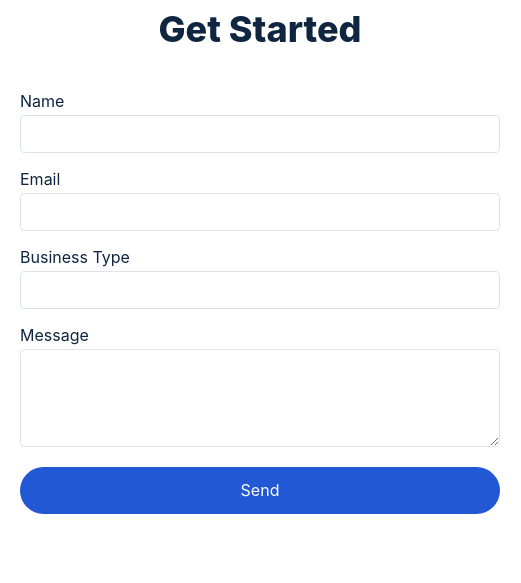
it: ContactForm › submits valid data to the form endpoint
In the field labelled "Name": (260, 134) [20,115,500,153], type "Jamie Rivera"
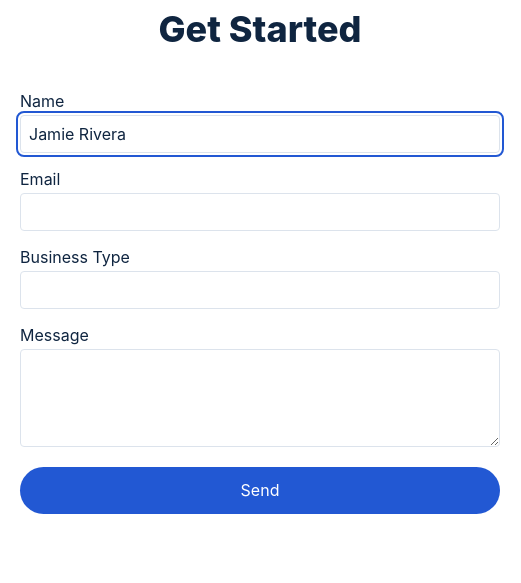
In the field labelled "Email": (260, 212) [20,193,500,231], type "jamie@example.com"
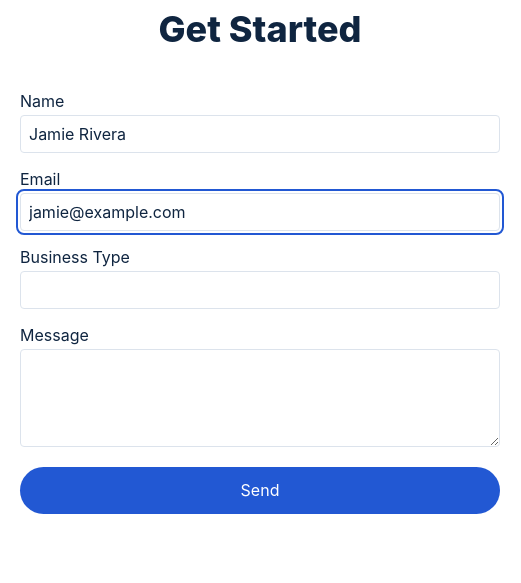
In the field labelled "Business Type": (260, 290) [20,271,500,309], type "Salon"
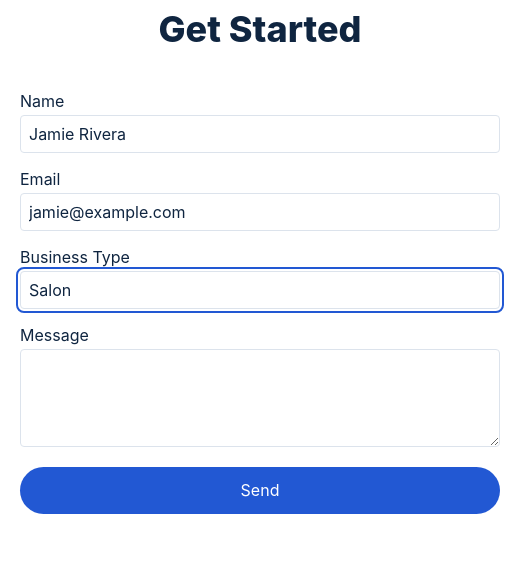
In the text box labelled "Message": (260, 398) [20,349,500,447], type "I want to automate bookings."
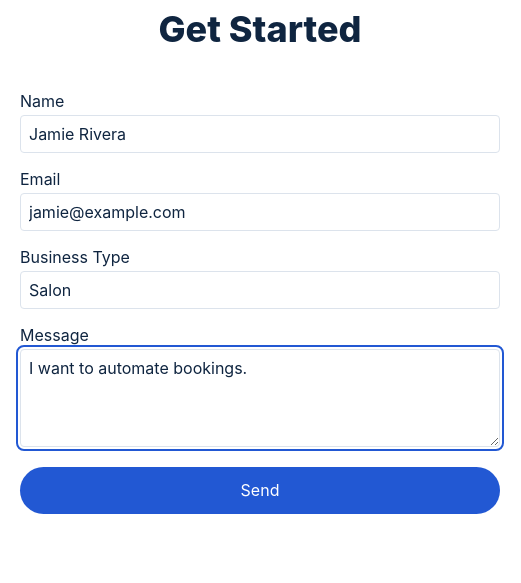
Click the button "Send": (260, 490) [20,467,500,514]
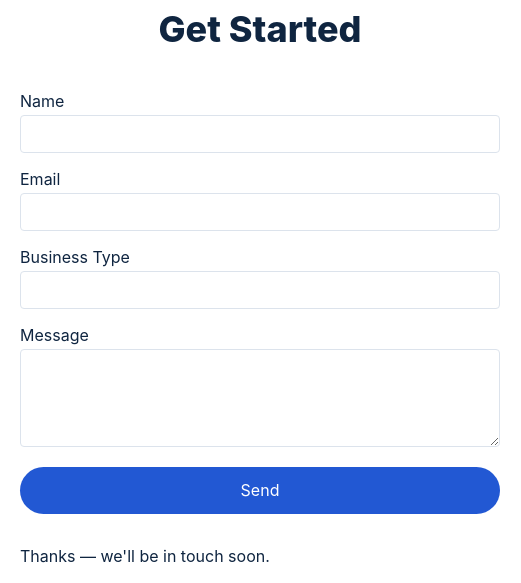
Result: the text "Thanks — we'll be in touch soon." is shown at [20,546,270,566]
